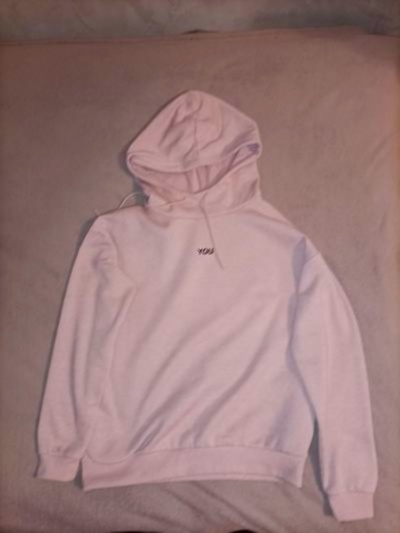Hoodie: (17, 66, 388, 514)
